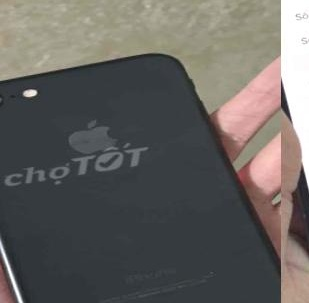scratch: (205, 264, 225, 280), (0, 84, 9, 112)
